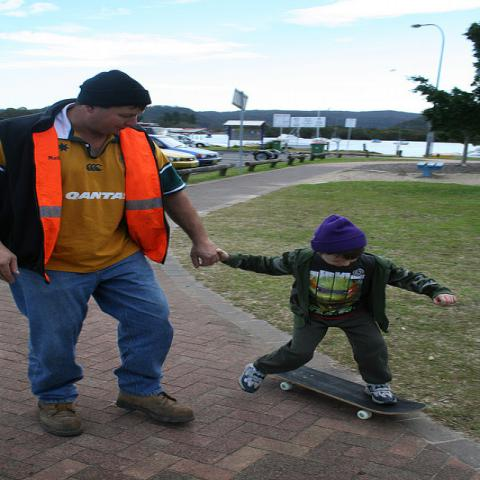car: (148, 134, 224, 166), (161, 149, 201, 168), (165, 134, 212, 147)
